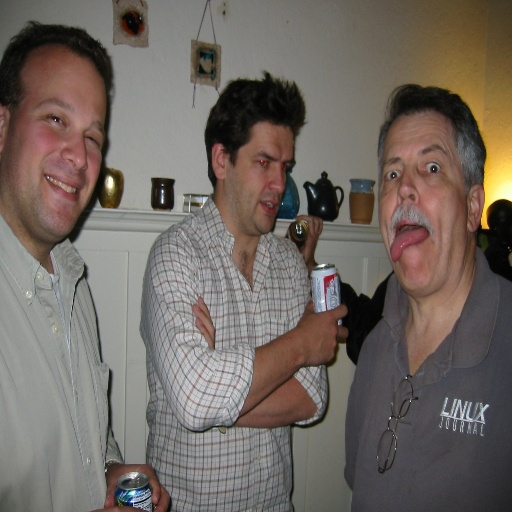hand: (292, 309, 348, 373), (102, 462, 172, 511), (295, 213, 323, 270), (192, 293, 216, 349), (93, 505, 137, 511)
